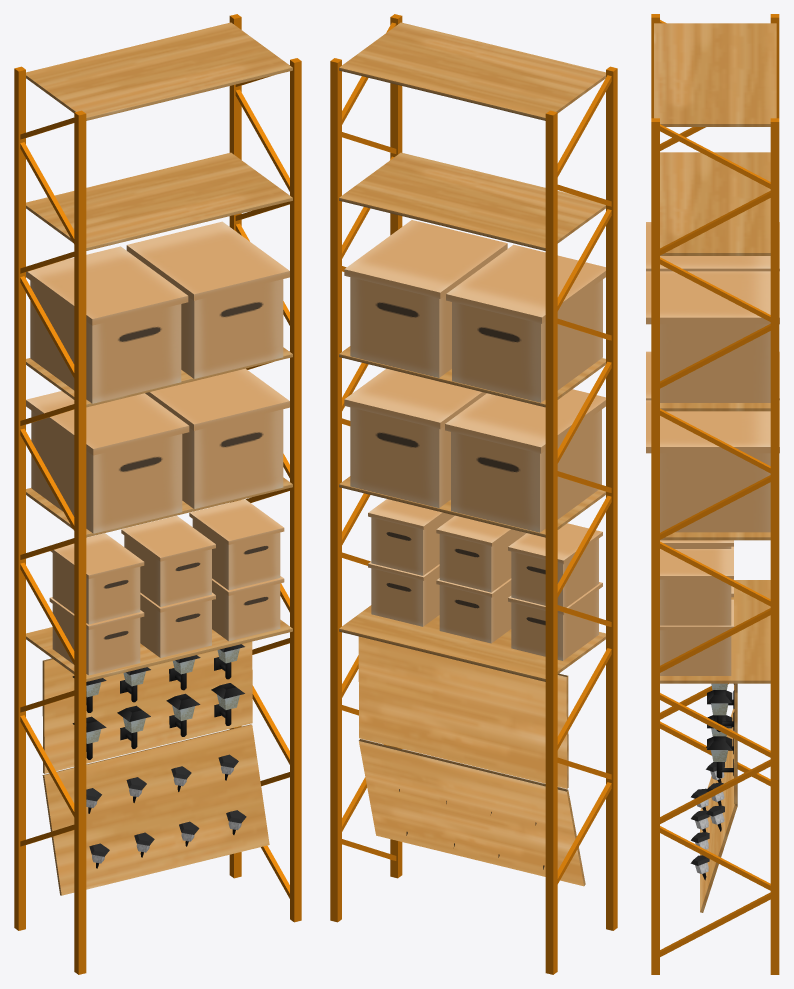
The model's file is Garden_Light_Rack.fbx.
3 renders of one model, left to right at view 1: azimuth 30°, elevation 25°; view 2: azimuth 150°, elevation 25°; view 3: azimuth 270°, elevation 25°, orthographic.
Visible parts, largest first — view 1: Garden_Light_Rack; view 2: Garden_Light_Rack; view 3: Garden_Light_Rack.
Boxes of the visible parts, x1,y1,x2,y2 form: Garden_Light_Rack: (14, 14, 301, 974); Garden_Light_Rack: (330, 14, 617, 974); Garden_Light_Rack: (646, 14, 779, 974).
Size of the model in its own units: 2 by 7.37 by 1.05.
